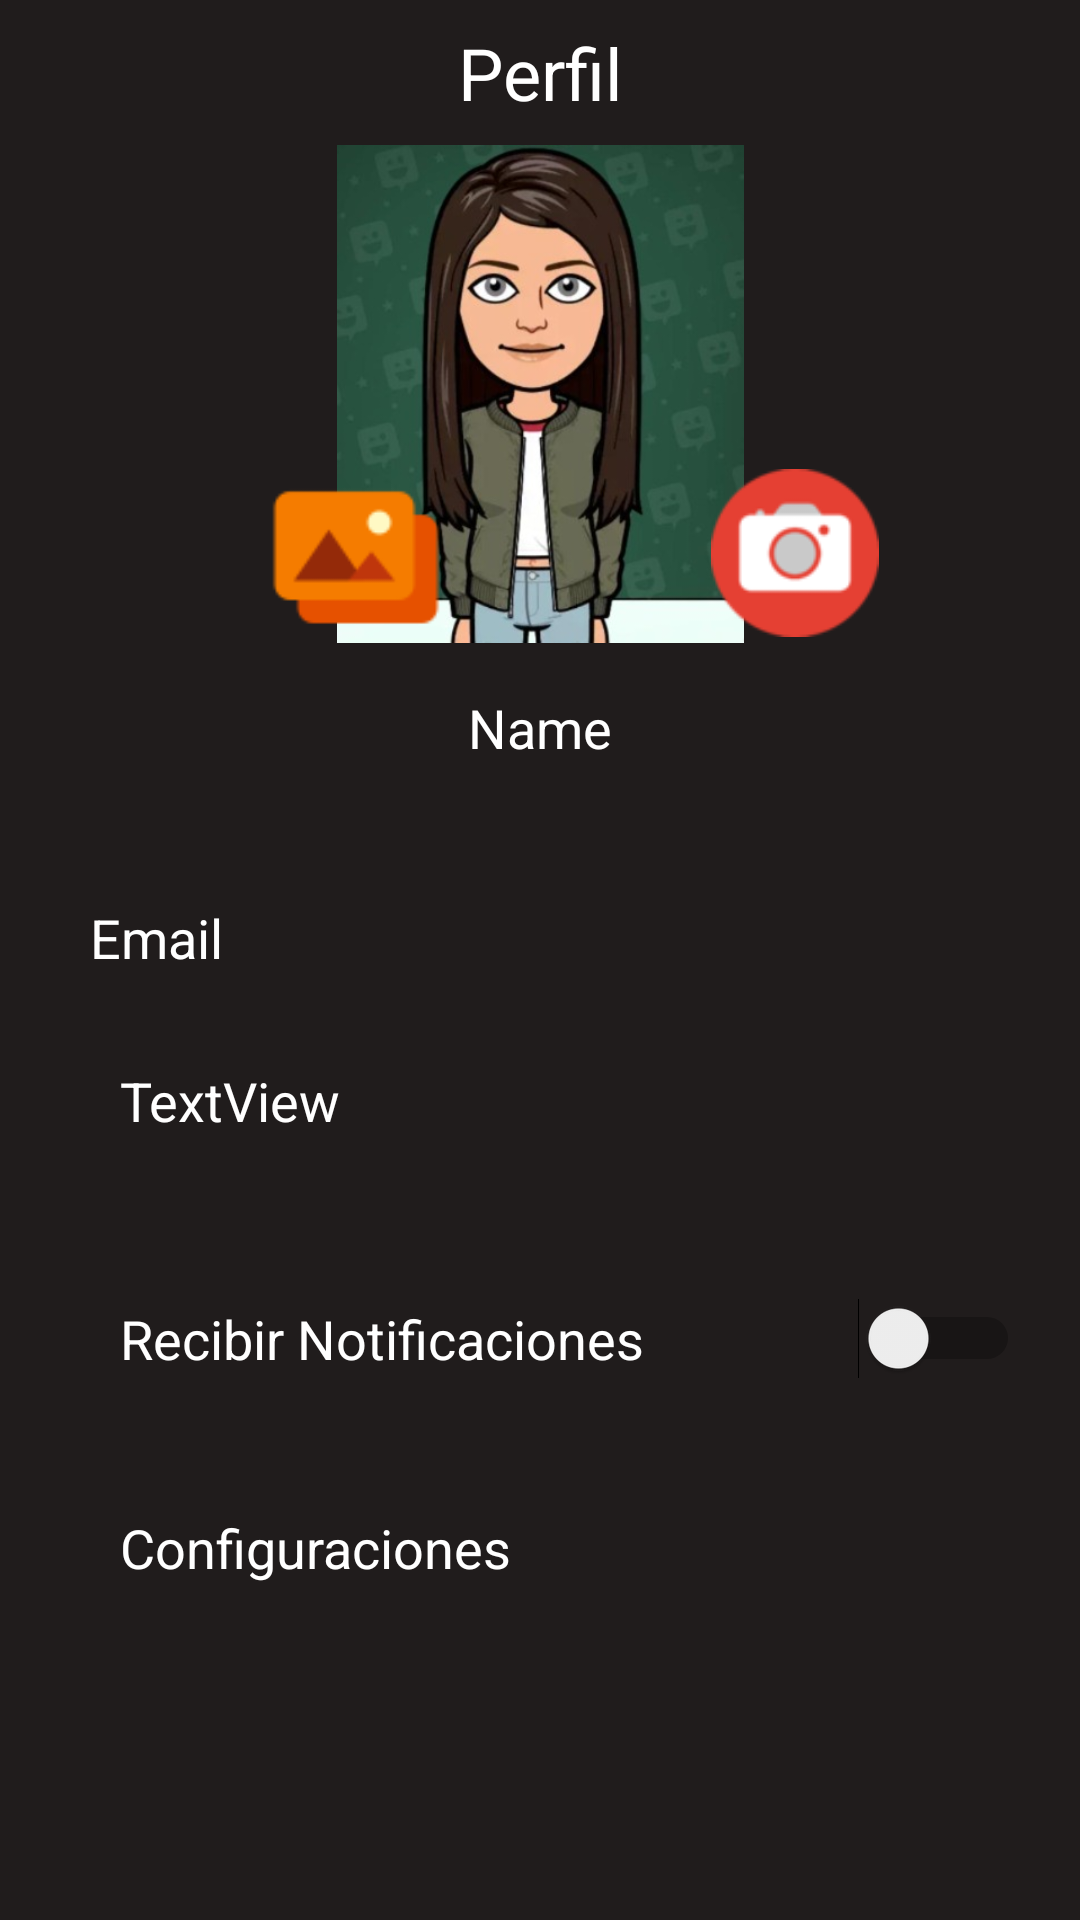

Where to tap for icons on this 1080px×1920px app screen, as (x,y):
camera photos photo: (795,553)
gallery: (361,551)
